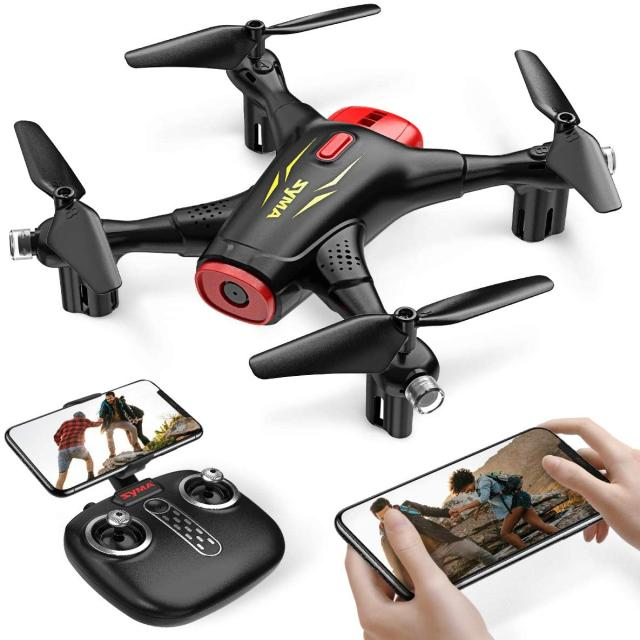drone: (0, 0, 635, 411)
